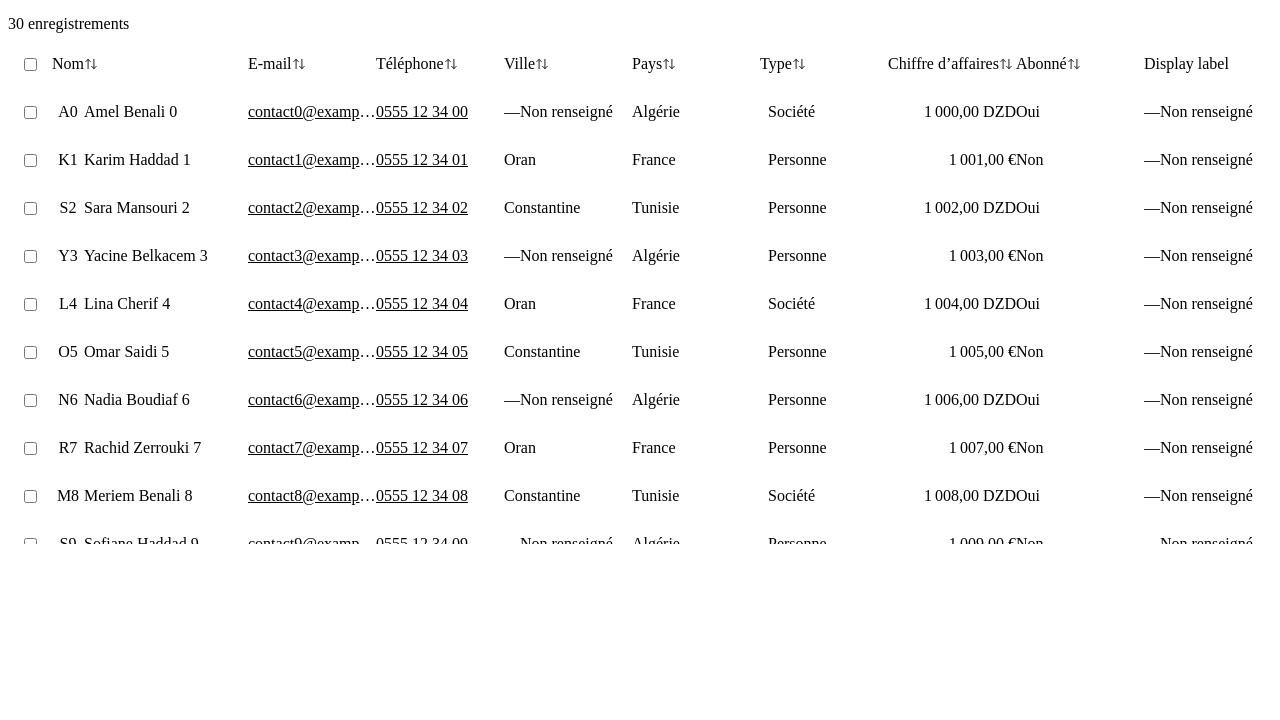
it: ListView: sorting › really reorders the rows, and goes back to the top
Expected: the text "30 enregistrements" is shown, 8,15 -> 129,33
Click the button with aria-label "Trier par Nom".
click(75, 64)  # box 52,55 -> 98,73
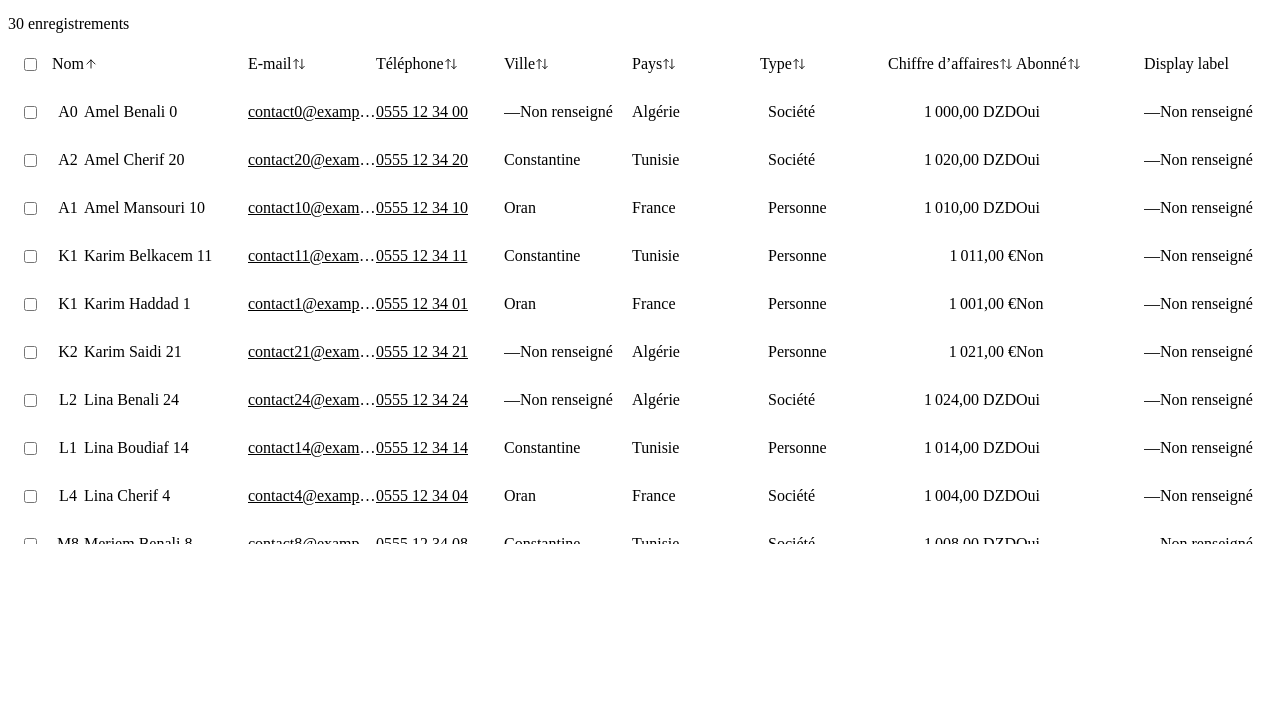
Click the button with aria-label "Trier par Nom".
click(75, 64)  # box 52,55 -> 98,73
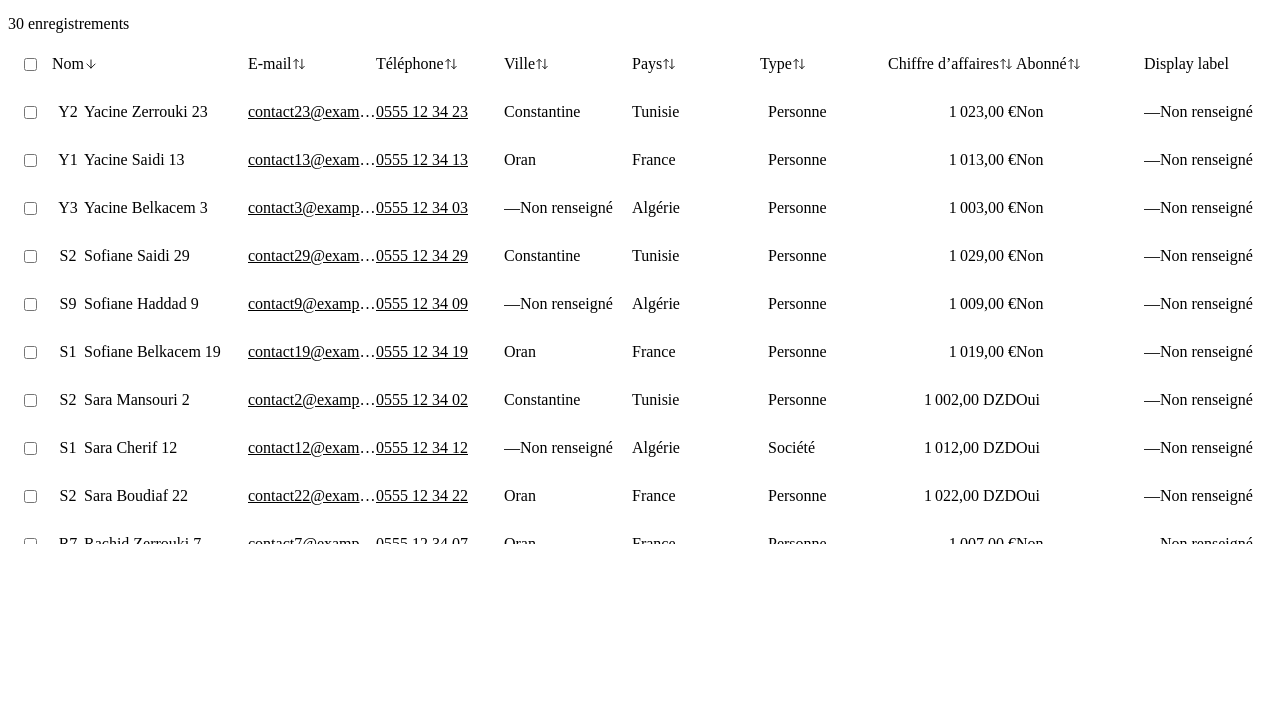
Now the text "Yacine Zerrouki 23" is shown, box 84,103 -> 208,121
